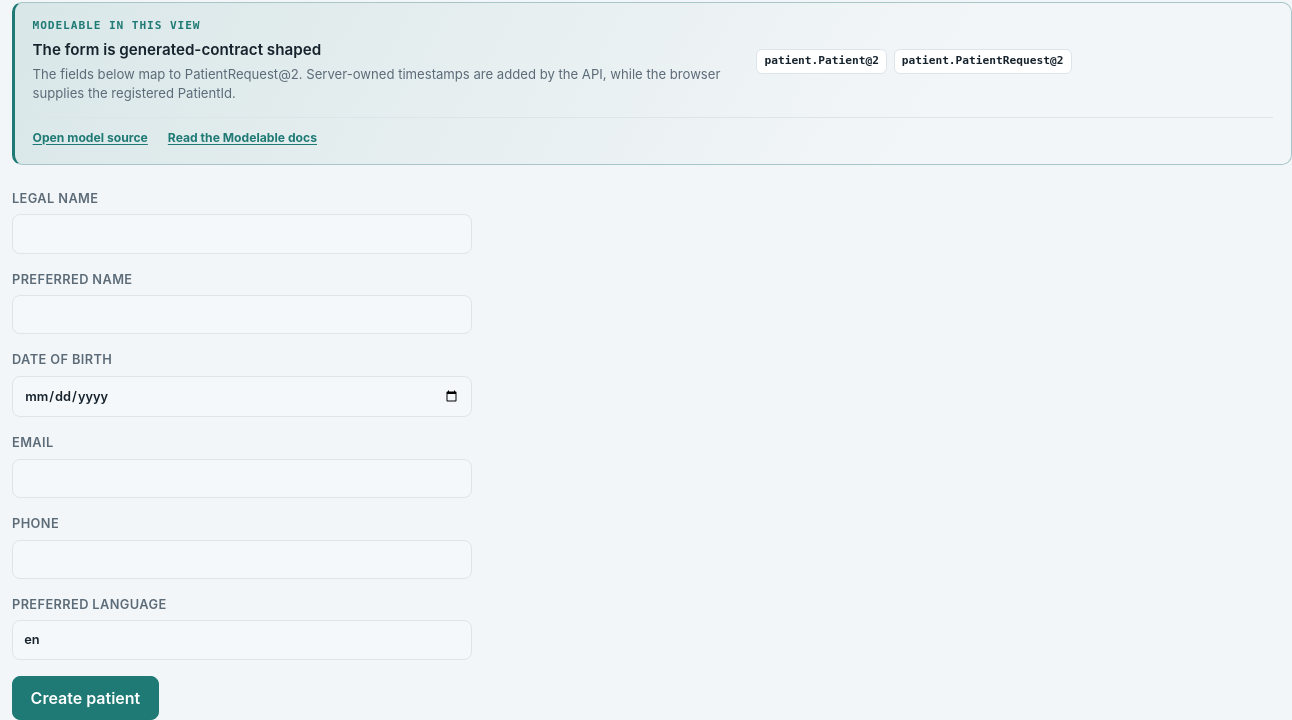
it: PatientCreate form validation › rejects submission with no legal name, no date of birth, and no contact method
(page scrolled)
Click the button "Create patient" at (85, 698), box [12, 676, 159, 719]
(page scrolled)
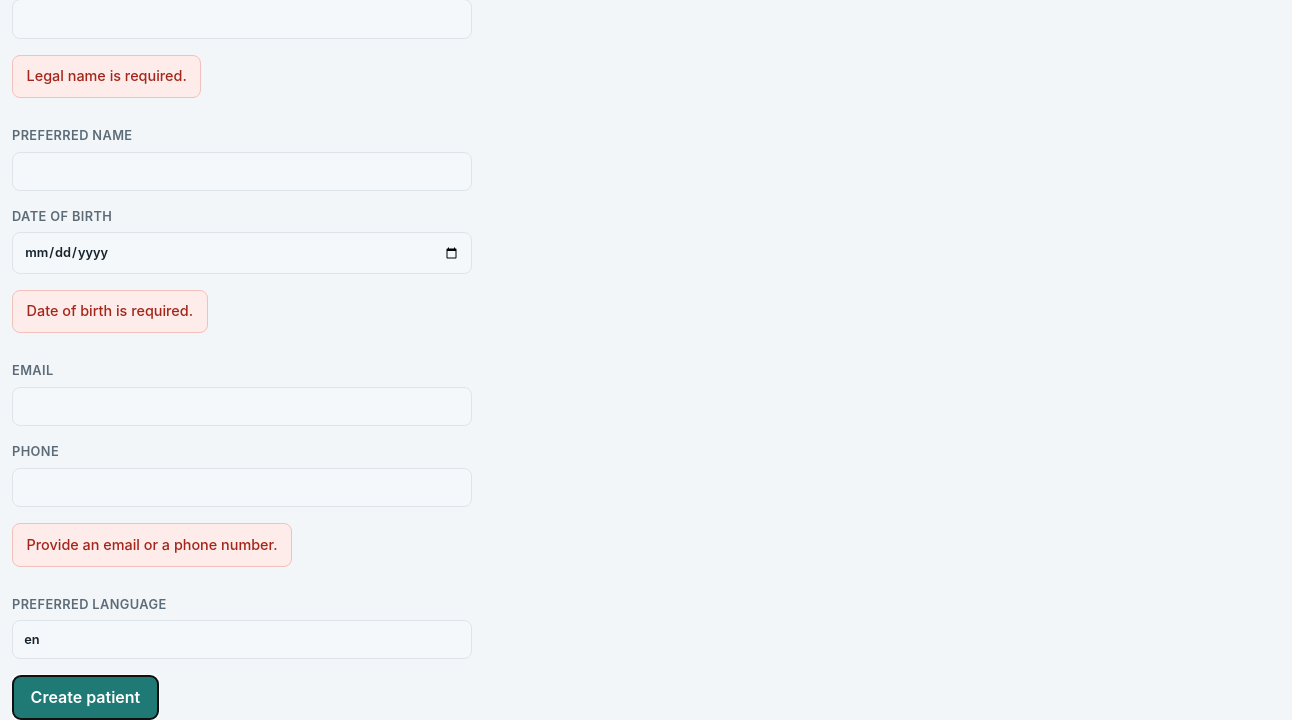
Expected: the text "Legal name is required." is shown, [12, 55, 201, 98]
Expected: the text "Date of birth is required." is shown, [12, 290, 208, 333]
Expected: the text "Provide an email or a phone number." is shown, [12, 523, 292, 566]
